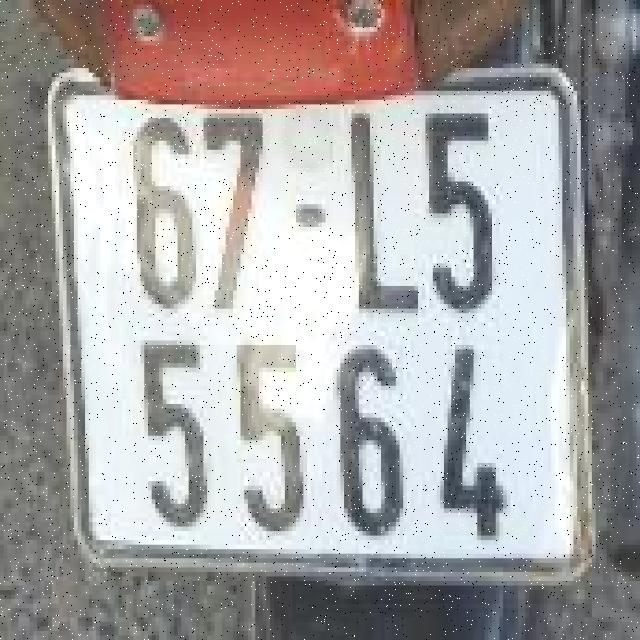4: (433, 338, 525, 543)
5: (422, 100, 511, 313), (224, 338, 309, 543), (130, 334, 214, 533)
6: (326, 345, 414, 549), (124, 120, 202, 316)
7: (196, 97, 285, 316)
L: (333, 107, 429, 316)
